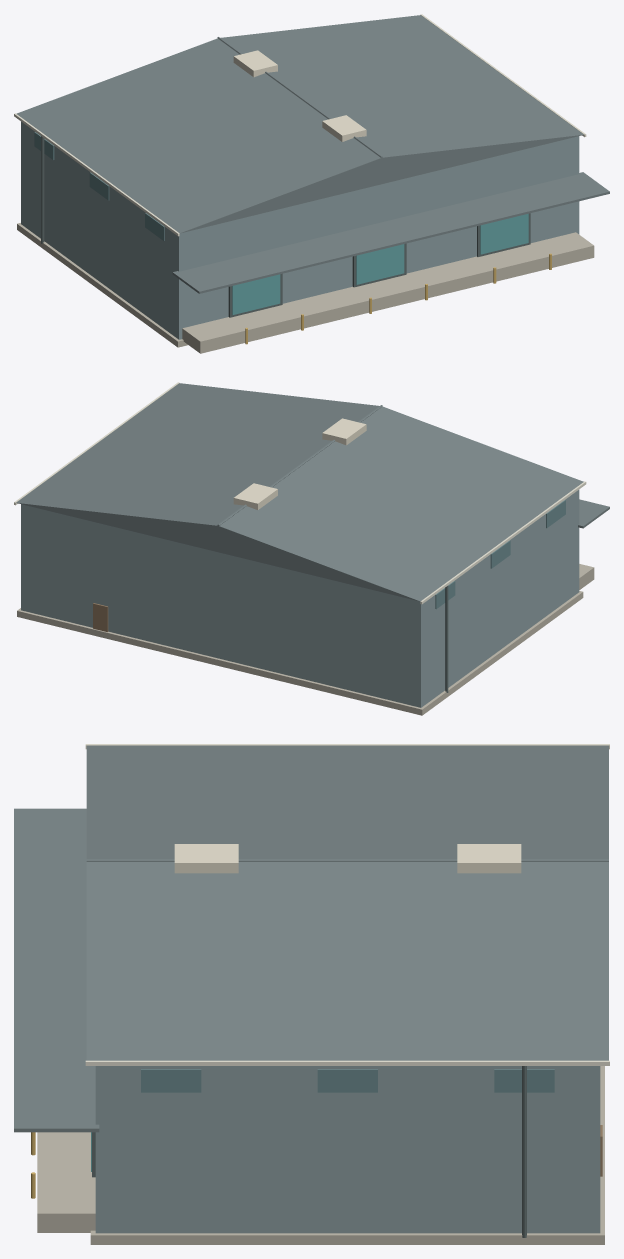
The picture shows the model from 3 angles, top to bottom: view 1: azimuth 30°, elevation 25°; view 2: azimuth 150°, elevation 25°; view 3: azimuth 270°, elevation 25°; orthographic projection. The views are drawn at different scales.
Bounding box in the file's own units: 39 × 13.28 × 30.7.
